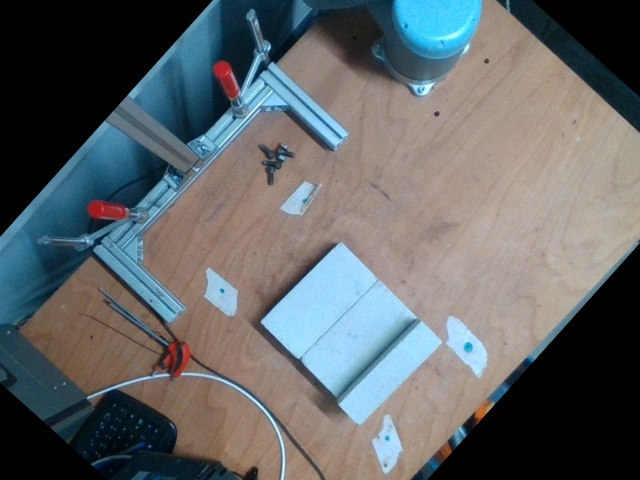brick-side: (336, 319, 445, 428)
